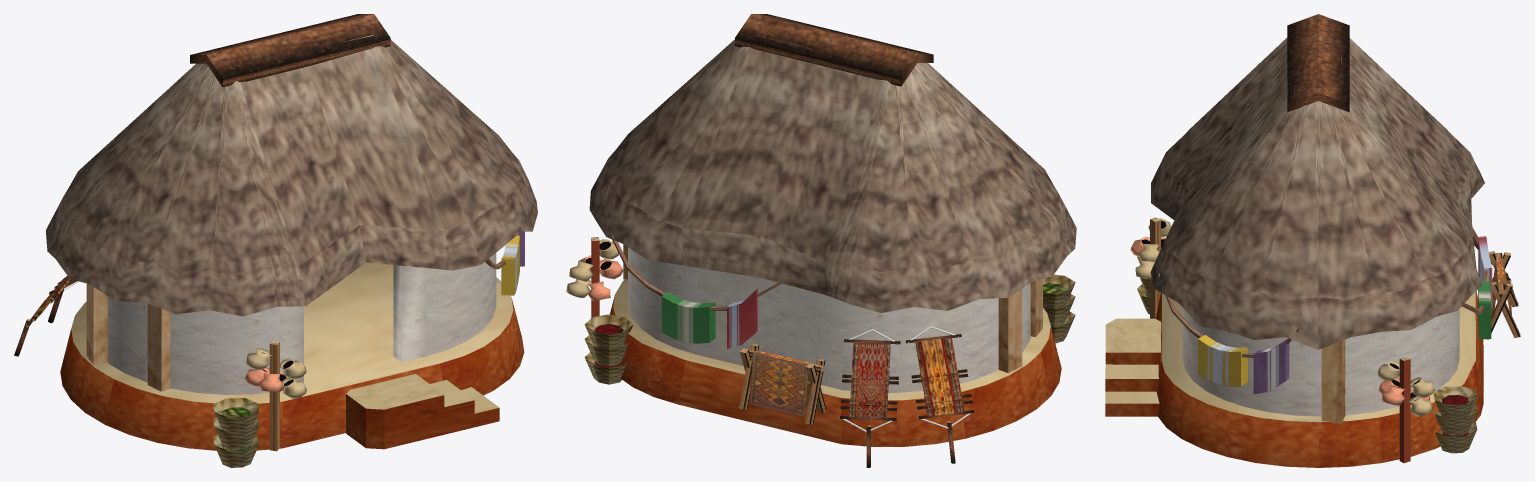
Rendered from house_4.dae.
The picture shows the model from 3 angles, left to right: view 1: azimuth 30°, elevation 25°; view 2: azimuth 150°, elevation 25°; view 3: azimuth 270°, elevation 25°; orthographic projection. The views are drawn at different scales.
Visible parts, largest first — view 1: house_4; view 2: house_4; view 3: house_4.
Boxes of the visible parts, bbox=[...] form: house_4: bbox=[14, 14, 537, 467]; house_4: bbox=[566, 14, 1076, 467]; house_4: bbox=[1105, 14, 1520, 467].
Size of the model in its own units: 13.07 by 10.99 by 9.37.
